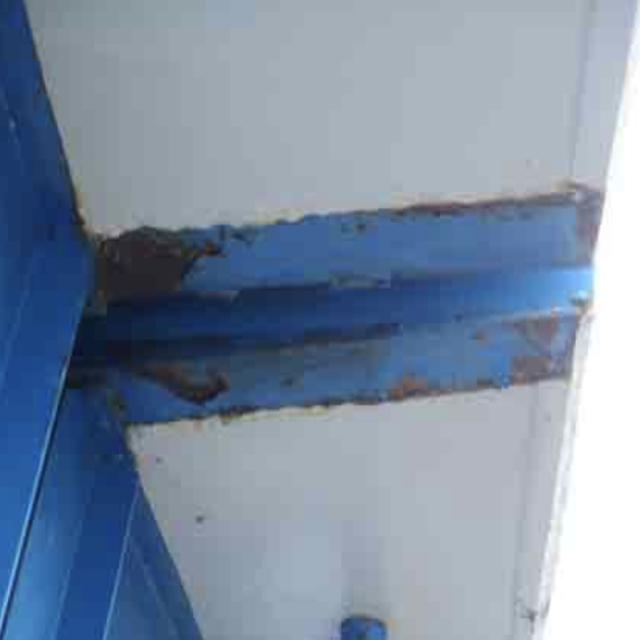corrosion: (83, 219, 220, 414), (390, 317, 573, 390), (412, 176, 594, 237)
